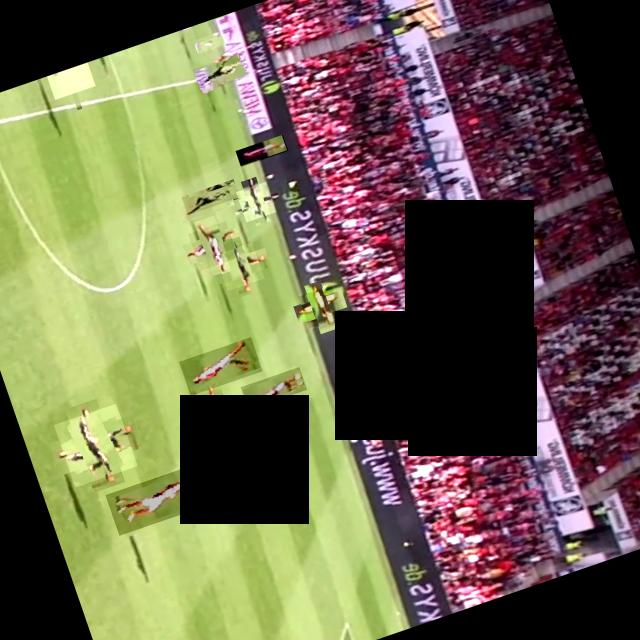ball: (193, 34, 225, 54)
referee: (297, 284, 341, 328)
soccer-player: (52, 403, 136, 487), (104, 466, 204, 536), (177, 337, 261, 396), (184, 381, 246, 442), (240, 366, 306, 409), (186, 220, 238, 270), (214, 242, 263, 291), (175, 185, 234, 223), (192, 52, 248, 92), (180, 178, 240, 214), (46, 62, 94, 100), (234, 181, 276, 222), (234, 135, 286, 167), (190, 18, 218, 40)
